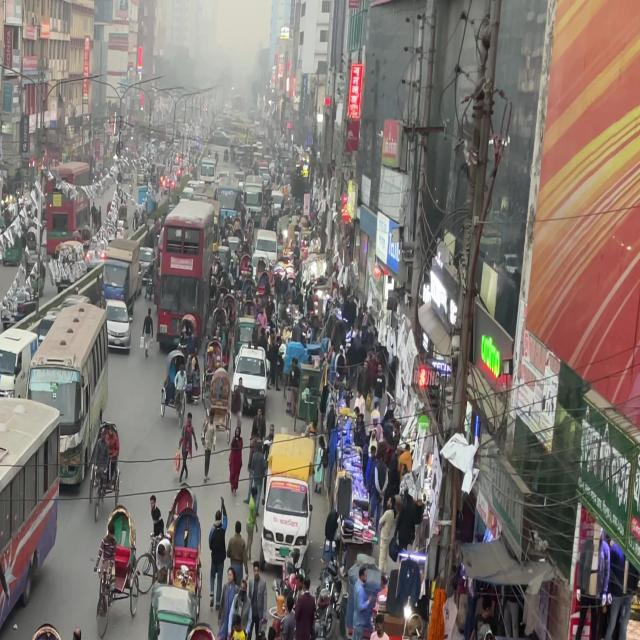bus: (0, 287, 103, 481), (0, 403, 64, 640), (153, 199, 217, 352), (101, 255, 135, 353)
car: (234, 354, 270, 398), (106, 303, 130, 352), (250, 233, 282, 268)
rickshaw: (140, 579, 202, 640)
van: (260, 423, 317, 572)
